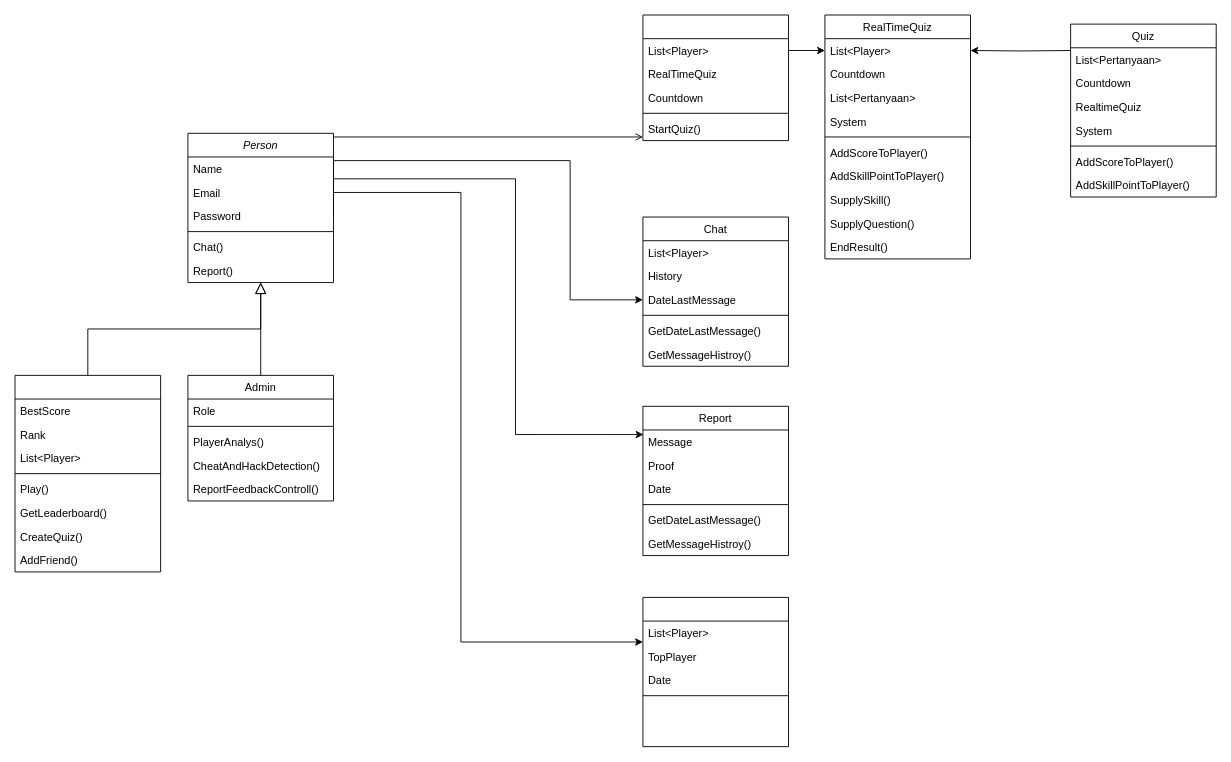
This 1231x762 diagram has some shape labels left out. The shapes that lost their labels are listed below. From the top down, each one's box as (x1, y1, x2, y2) in pixels, then its label:
(642, 14, 789, 141): Lobby
(14, 374, 161, 572): Player
(642, 597, 789, 747): Leaderboeard
